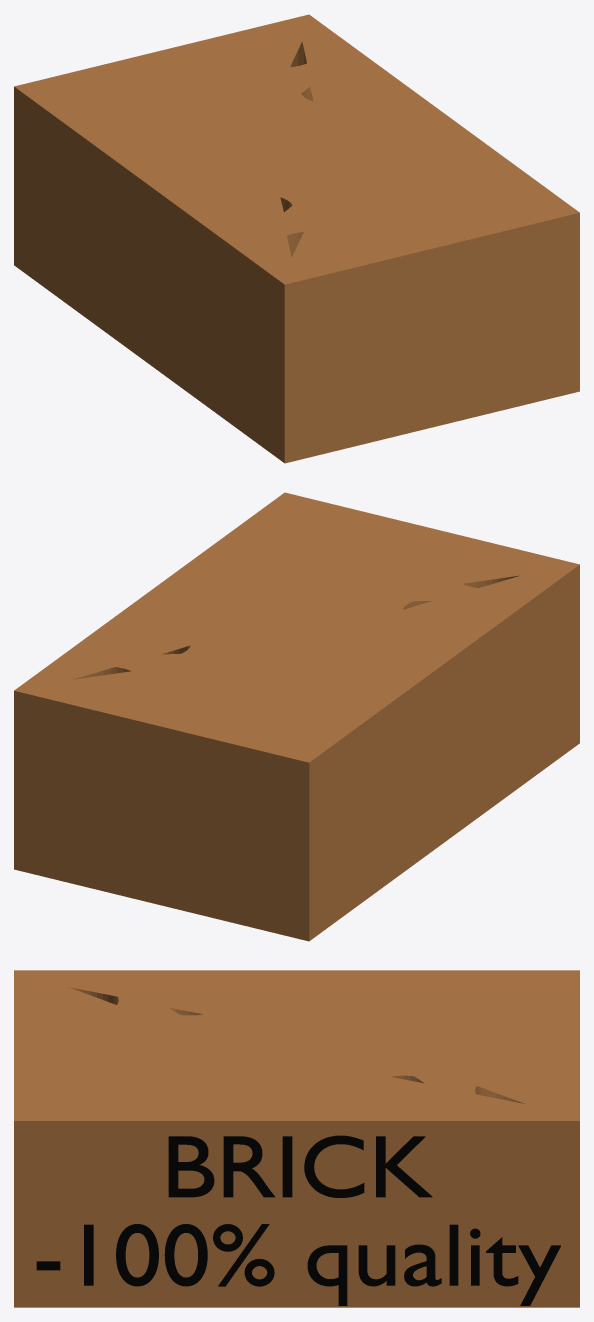
Rendered from Brick.fbx.
3 views of the same model, one above another, from view 1: azimuth 30°, elevation 25°; view 2: azimuth 150°, elevation 25°; view 3: azimuth 270°, elevation 25° (orthographic). The views are drawn at different scales.
Parts seen in each view (by area): view 1: Cube; view 2: Cube; view 3: Cube, Text.
Boxes of the visible parts, bbox=[...] form: Cube: bbox=[14, 14, 579, 463]; Cube: bbox=[14, 492, 579, 941]; Cube: bbox=[14, 970, 579, 1307]; Text: bbox=[36, 1135, 560, 1305].
Bounding box in the file's own units: 201 × 116 × 318.
